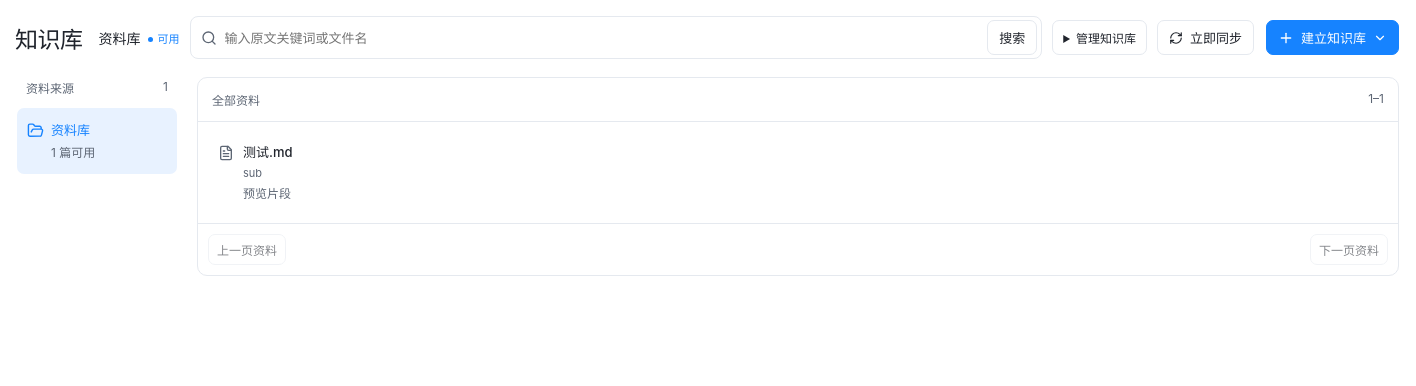
it: a failed refresh retains the last list and can be retried
This screenshot has width=1416, height=386.
Expected: the button with aria-label "sub/测试.md" is shown, [208, 132, 1373, 213]
What coordinates should you click on to do the following:
click the button "立即同步"
I would click on:
 (1206, 38)
Its box is [1157, 20, 1254, 55].
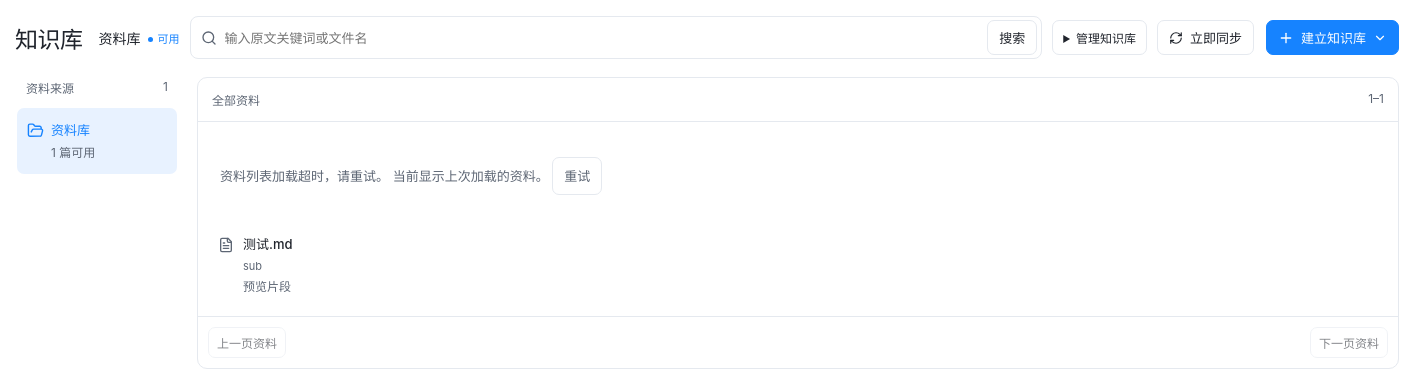
Expected: the button with aria-label "sub/测试.md" is shown, [208, 224, 490, 306]
Now the text "资料列表加载超时，请重试。 当前显示上次加载的资料。 重试" is shown, box [220, 157, 602, 195]
What coordinates should you click on to do the following:
click the button "重试"
I would click on:
 (577, 176)
Its box is [552, 157, 602, 195].
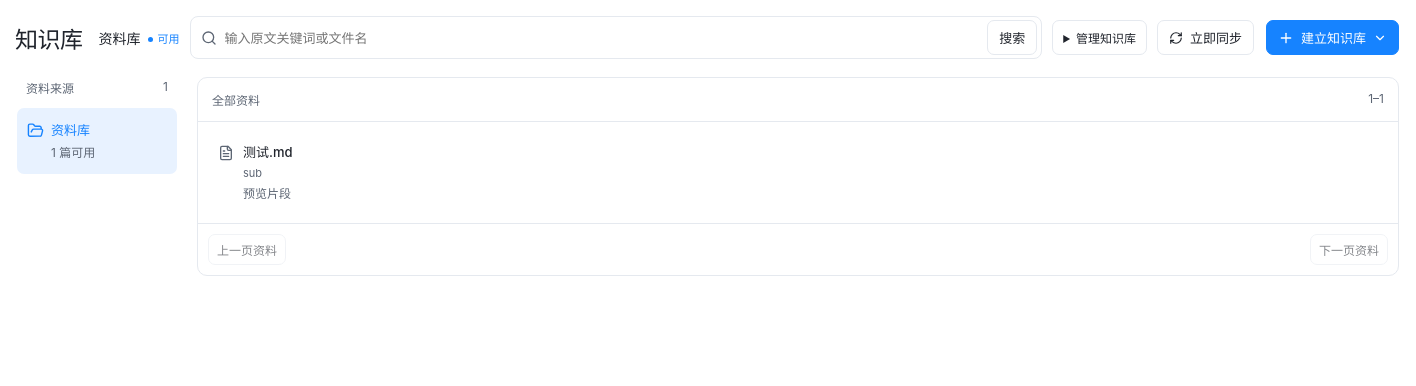
Expected: the button with aria-label "sub/测试.md" is shown, [208, 132, 1373, 213]
Now the message "资料列表加载超时，请重试。 当前显示上次加载的资料。 重试" is gone
